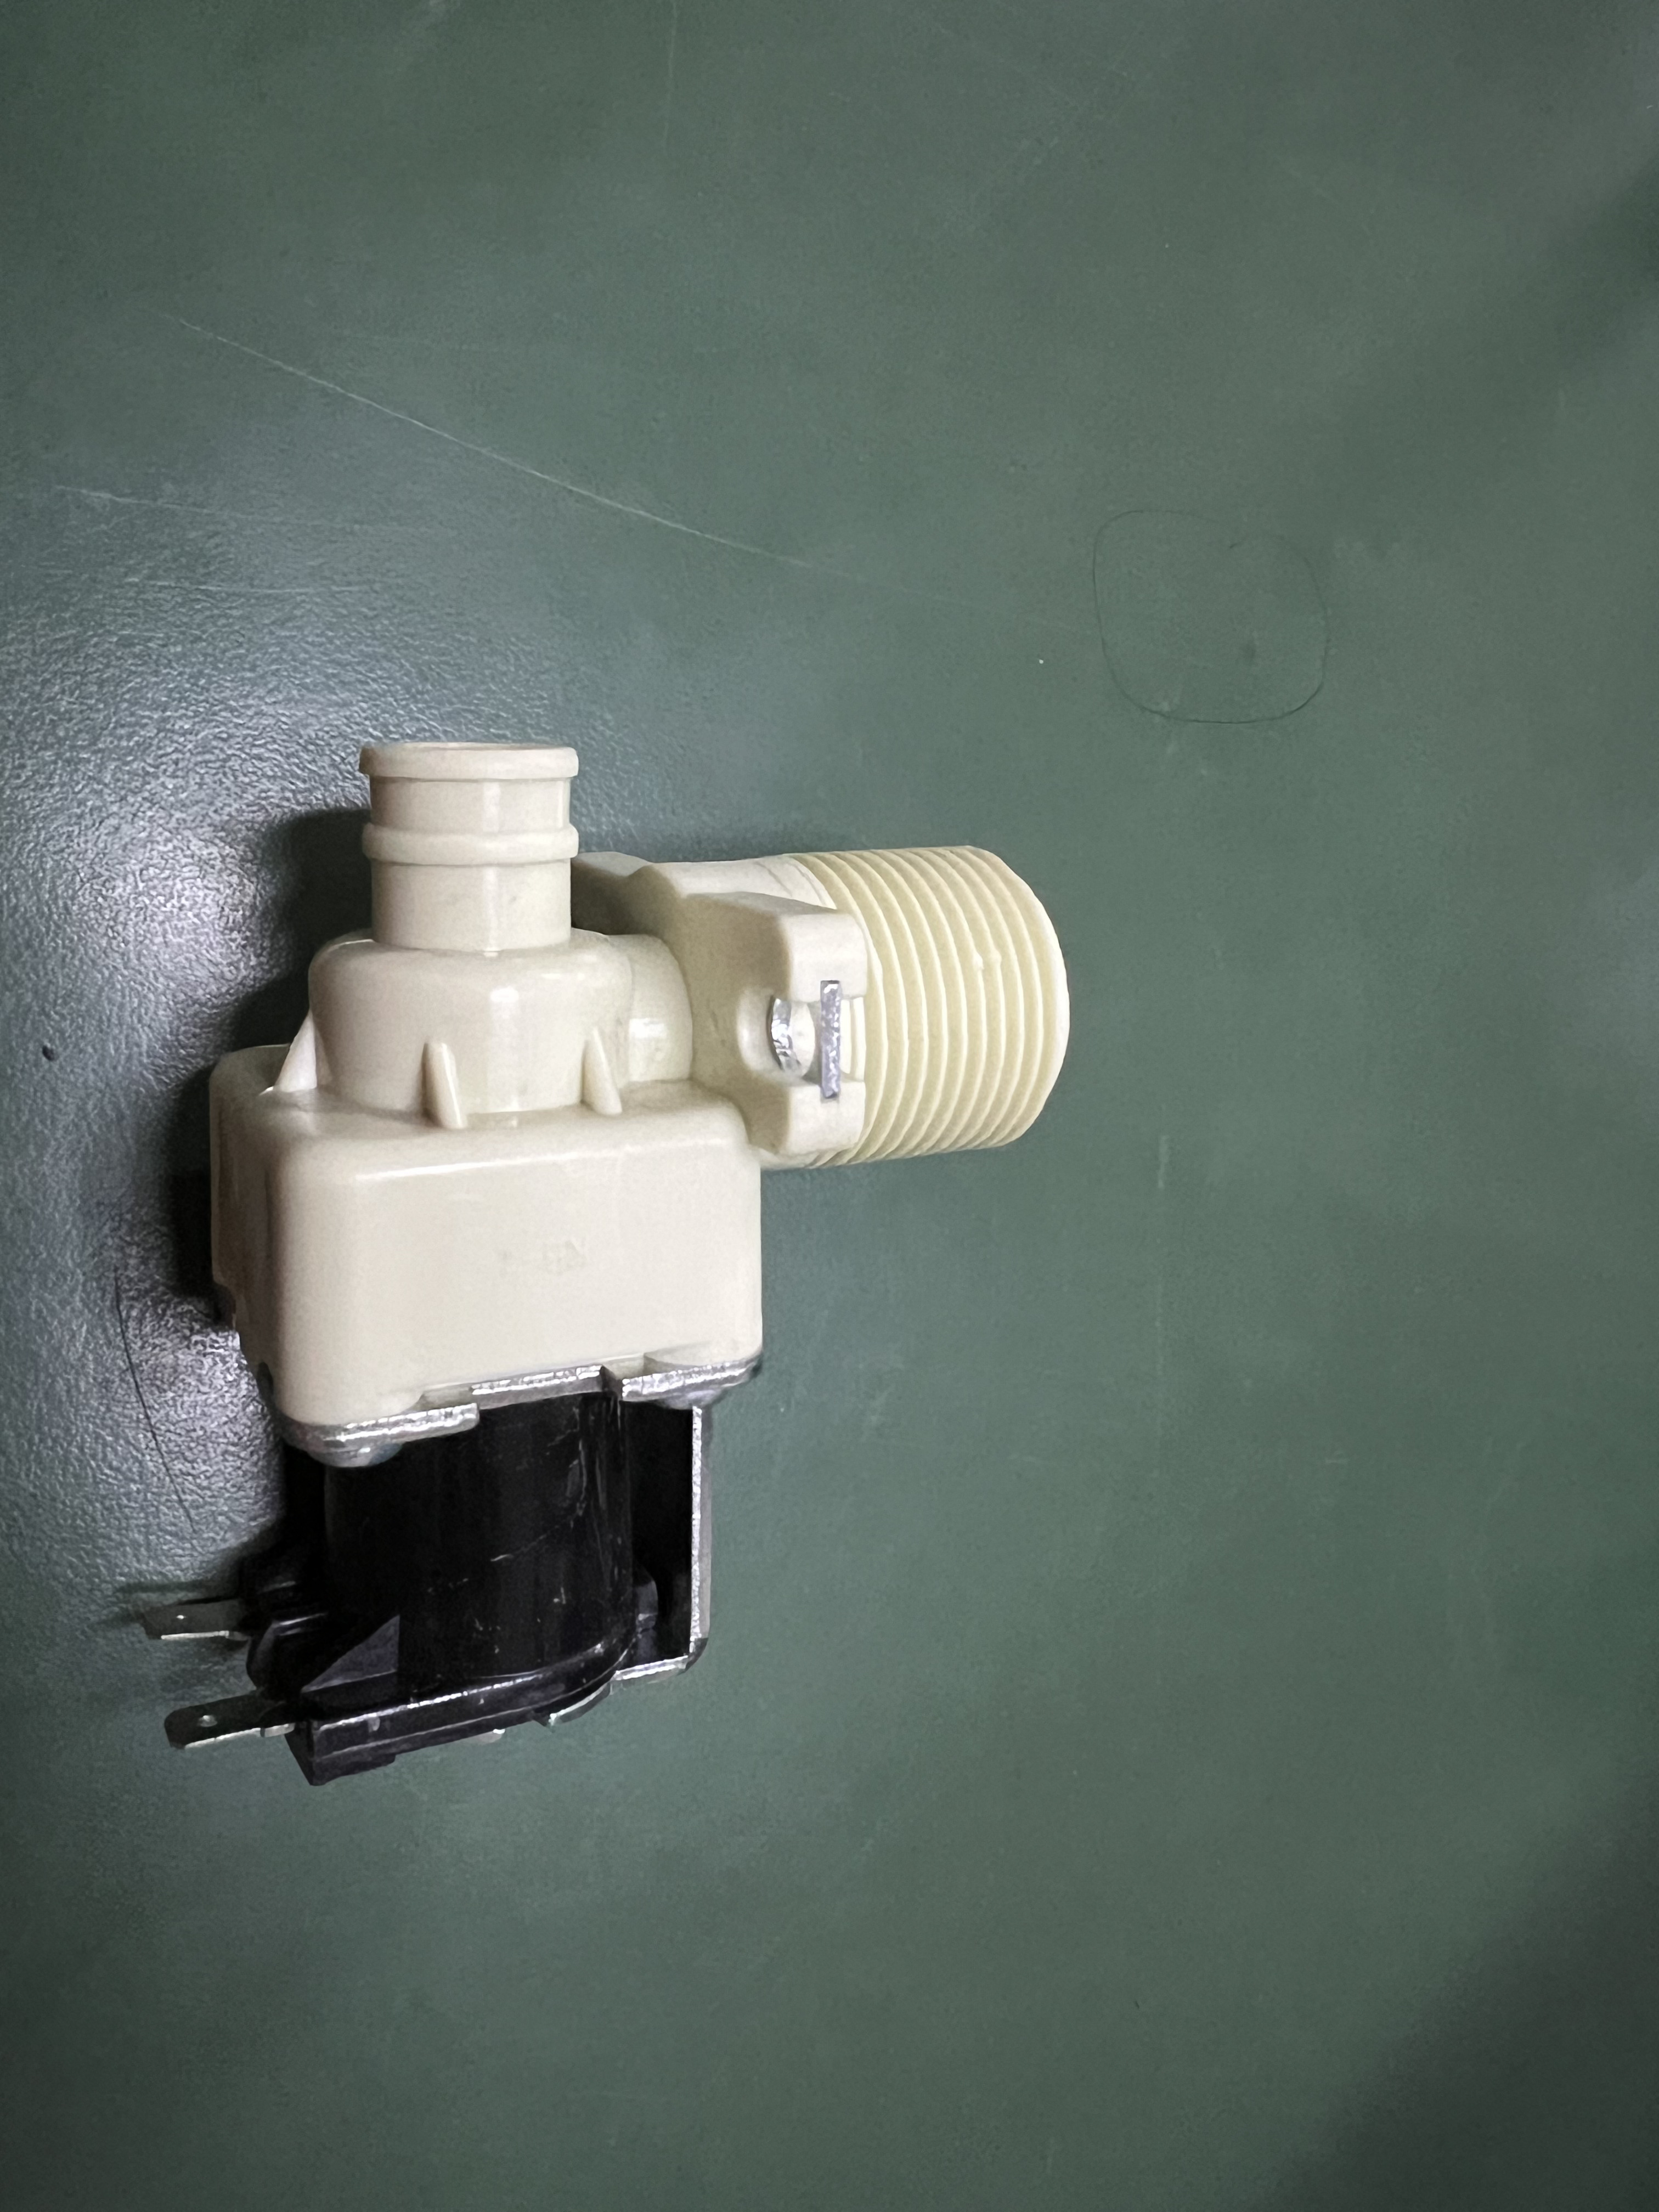godrej_inlet_valves: (112, 686, 1150, 1829)
